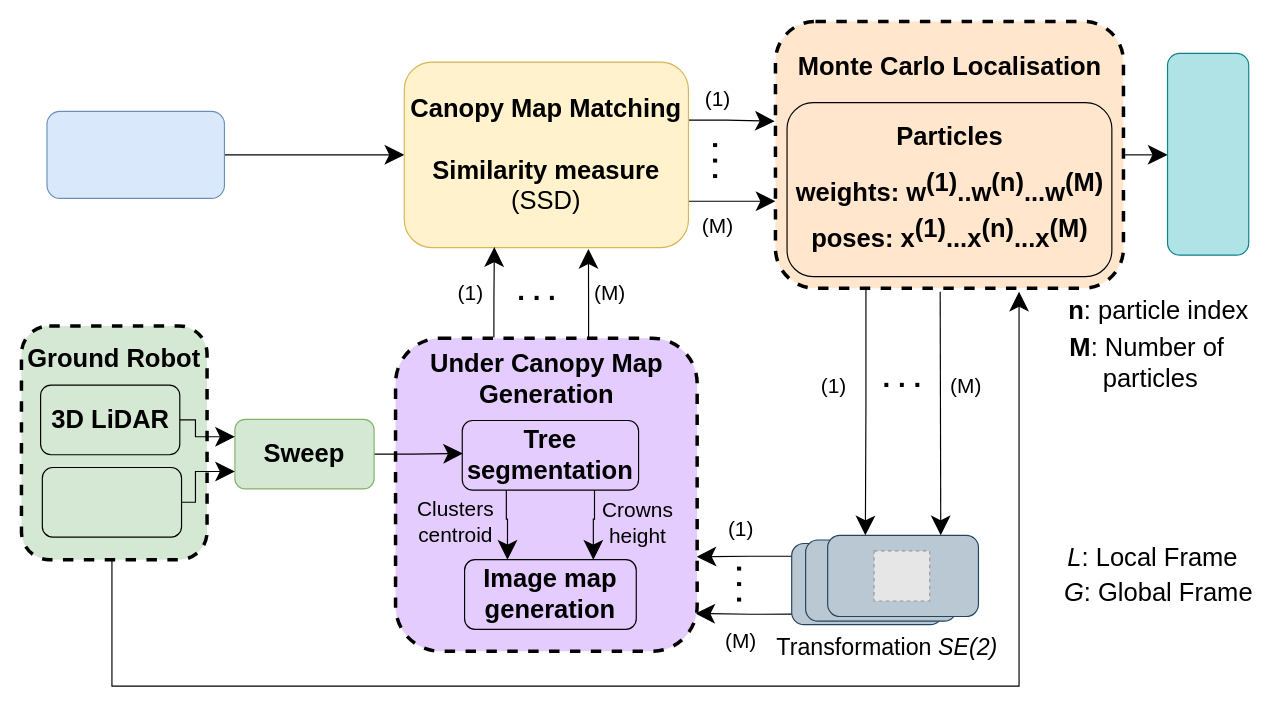
Some shapes in this 1283 by 725 pixel diagram are drawn without their labels. Grey dashed boxes stand in for pictures. The centre of each missing label's shape, as x and y in pixels:
Above Canopy Map: the point at 135,154
Geo-Localisation: the point at 1207,153
Odometry: the point at 111,501
